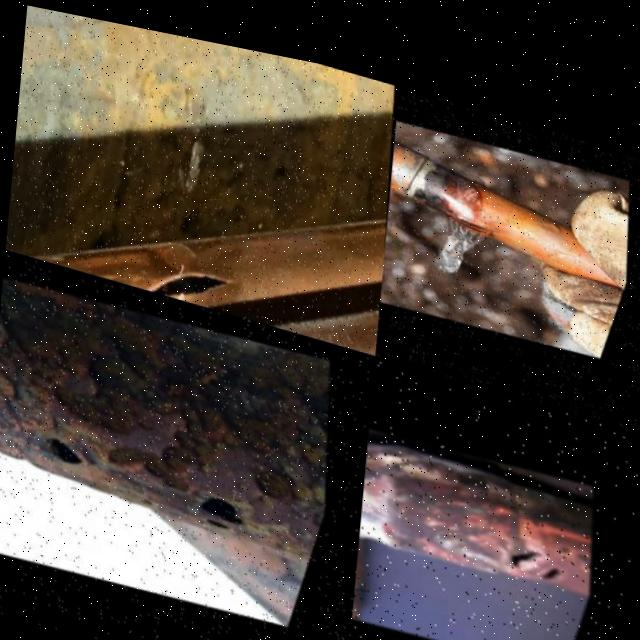hole: (40, 430, 106, 486), (204, 479, 267, 531), (503, 518, 556, 562), (560, 515, 604, 554), (542, 536, 577, 568), (210, 507, 250, 535)
rupture: (147, 248, 255, 301), (447, 190, 508, 221)
